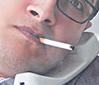smoke: (35, 36, 75, 51)
